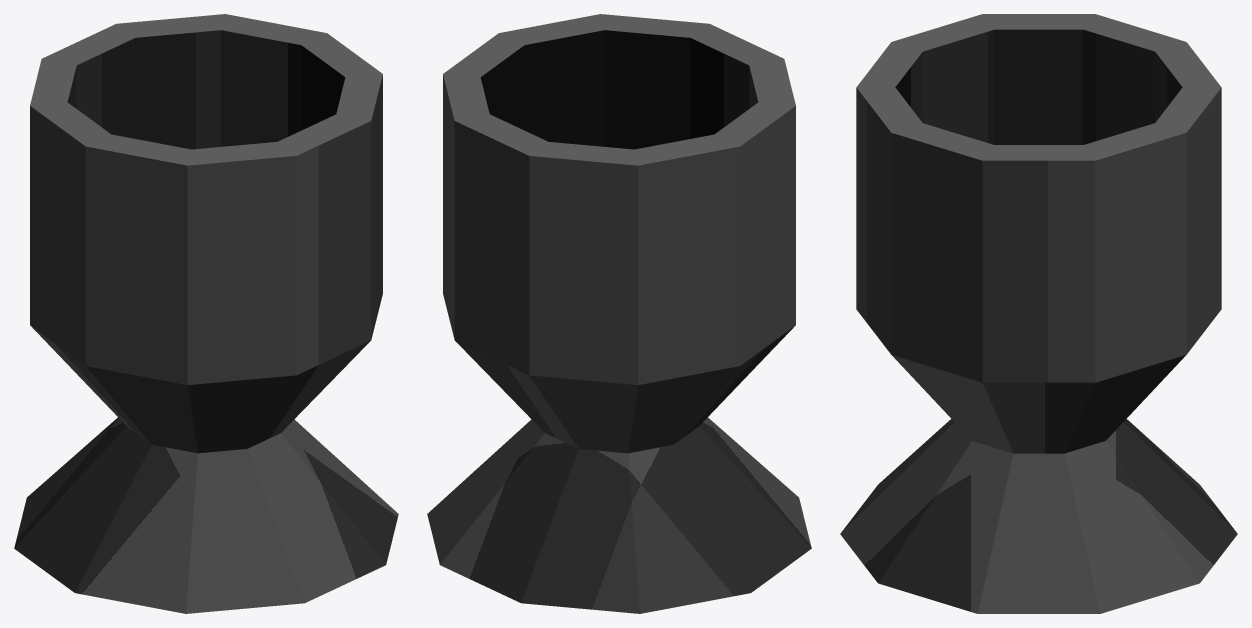
The model's file is cup_628x13.gltf.
3 renders of one model, left to right at view 1: azimuth 30°, elevation 25°; view 2: azimuth 150°, elevation 25°; view 3: azimuth 270°, elevation 25°, orthographic.
Parts seen in each view (by area): view 1: cup_628x13; view 2: cup_628x13; view 3: cup_628x13.
Part boxes in pixels (x1,y1,x2,y2): cup_628x13: (14,14,398,613); cup_628x13: (427,14,811,613); cup_628x13: (840,14,1237,613).
Bounding box in the file's own units: 0.4211 × 0.5485 × 0.4428.
1 material, 1 textured.
